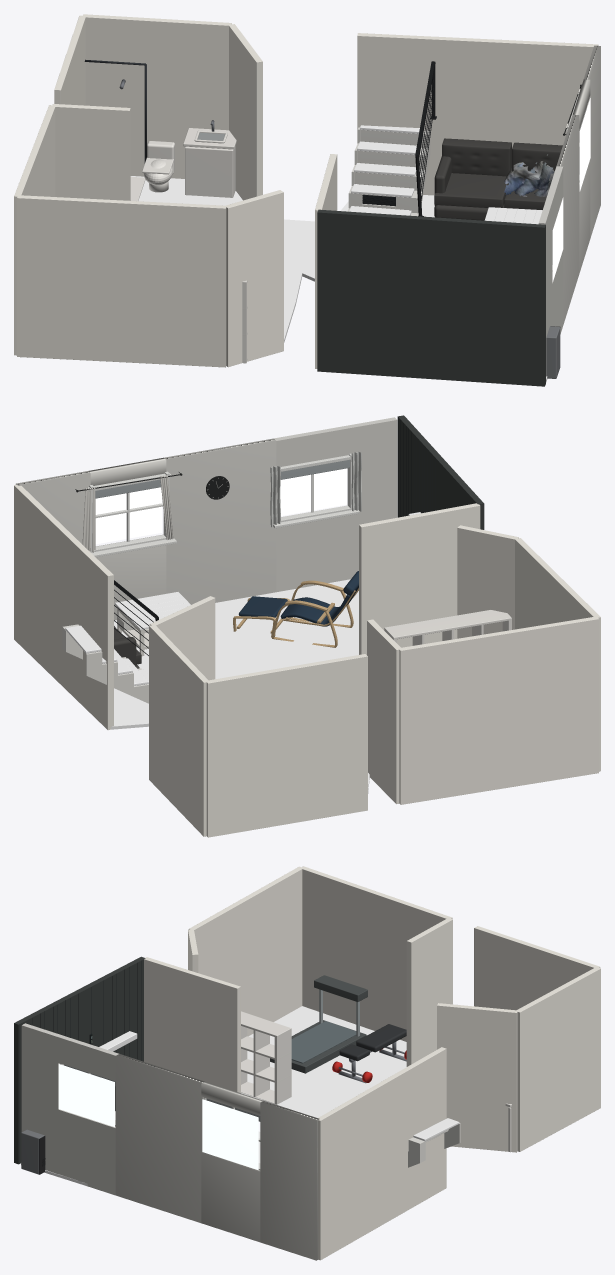
3 renders of one model, top to bottom at view 1: azimuth 30°, elevation 25°; view 2: azimuth 150°, elevation 25°; view 3: azimuth 270°, elevation 25°, orthographic. The views are drawn at different scales.
Parts seen in each view (by area): view 1: source-wall-8-replacement, home-lower-level_observed_wall_0_panel, home-lower-level_observed_wall_6_panel, home-lower-level_observed_wall_4_panel, home-lower-level_observed_wall_10_panel, home-lower-level_observed_wall_2_panel, home-lower-level_observed_wall_5_panel, home-lower-level_independently_traced_floor, actual-second-window-wall-between-windows, home-lower-level_observed_wall_1_panel, home-lower-level__bath_vanity__cabinet, home-lower-level__lounge_sofa__back_0__source_closed (+26 smaller); view 2: home-lower-level_observed_wall_1_panel, home-lower-level_observed_wall_3_panel, actual-second-window-wall-between-windows, home-lower-level_observed_wall_6_panel, home-lower-level_observed_wall_9_panel, home-lower-level_independently_traced_floor, home-lower-level_observed_wall_4_panel, home-lower-level_observed_wall_10_panel, home-lower-level_observed_wall_2_panel, source-wall-8-replacement, actual-window-cutout-wall-below, actual-window-cutout-wall-left (+16 smaller); view 3: home-lower-level_observed_wall_6_panel, home-lower-level_observed_wall_1_panel, actual-second-window-wall-between-windows, home-lower-level_observed_wall_4_panel, home-lower-level_observed_wall_0_panel, home-lower-level_observed_wall_9_panel, home-lower-level_observed_wall_5_panel, actual-second-window-wall-rightof-second, source-wall-8-replacement, home-lower-level_observed_wall_3_panel, home-lower-level_independently_traced_floor, home-lower-level_observed_wall_2_panel (+15 smaller).
Boxes of the visible parts, <box> form: source-wall-8-replacement: <box>317,209,545,386</box>; home-lower-level_observed_wall_0_panel: <box>17,195,226,367</box>; home-lower-level_observed_wall_6_panel: <box>357,33,598,195</box>; home-lower-level_observed_wall_4_panel: <box>83,14,231,178</box>; home-lower-level_observed_wall_10_panel: <box>226,190,283,367</box>; home-lower-level_observed_wall_2_panel: <box>52,104,130,200</box>; home-lower-level_observed_wall_5_panel: <box>229,24,262,200</box>; home-lower-level_independently_traced_floor: <box>130,176,547,382</box>; actual-second-window-wall-between-windows: <box>556,115,579,324</box>; home-lower-level_observed_wall_1_panel: <box>14,105,55,355</box>; home-lower-level__bath_vanity__cabinet: <box>185,146,235,197</box>; home-lower-level__lounge_sofa__back_0__source_closed: <box>442,138,511,176</box>; home-lower-level_observed_wall_1_panel: <box>399,617,598,804</box>; home-lower-level_observed_wall_3_panel: <box>206,654,367,837</box>; actual-second-window-wall-between-windows: <box>164,438,276,604</box>; home-lower-level_observed_wall_6_panel: <box>14,485,113,729</box>; home-lower-level_observed_wall_9_panel: <box>359,503,480,654</box>; home-lower-level_independently_traced_floor: <box>111,579,369,793</box>; home-lower-level_observed_wall_4_panel: <box>149,624,207,836</box>; home-lower-level_observed_wall_10_panel: <box>457,525,518,638</box>; home-lower-level_observed_wall_2_panel: <box>367,619,401,803</box>; source-wall-8-replacement: <box>397,415,484,529</box>; actual-window-cutout-wall-below: <box>276,505,350,592</box>; actual-window-cutout-wall-left: <box>348,417,397,579</box>; home-lower-level_observed_wall_6_panel: <box>318,1047,446,1260</box>; home-lower-level_observed_wall_1_panel: <box>302,866,452,1041</box>; actual-second-window-wall-between-windows: <box>115,1054,204,1222</box>; home-lower-level_observed_wall_4_panel: <box>515,967,600,1151</box>; home-lower-level_observed_wall_0_panel: <box>188,866,303,1036</box>; home-lower-level_observed_wall_9_panel: <box>144,957,240,1092</box>; home-lower-level_observed_wall_5_panel: <box>437,1003,517,1152</box>; actual-second-window-wall-rightof-second: <box>260,1101,319,1260</box>; source-wall-8-replacement: <box>14,956,145,1164</box>; home-lower-level_observed_wall_3_panel: <box>474,926,600,1010</box>; home-lower-level_independently_traced_floor: <box>21,1006,406,1186</box>; home-lower-level_observed_wall_2_panel: <box>406,918,452,1066</box>.
Bounding box in the file's own units: 8.99 × 2.3 × 8.76.
